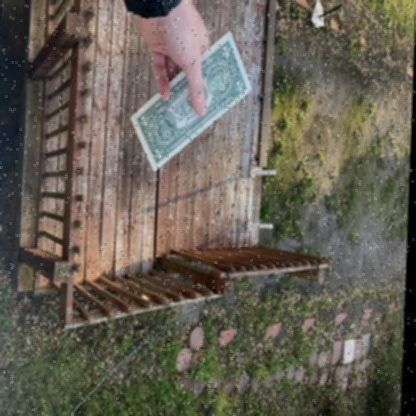one-back: (123, 31, 253, 172)
